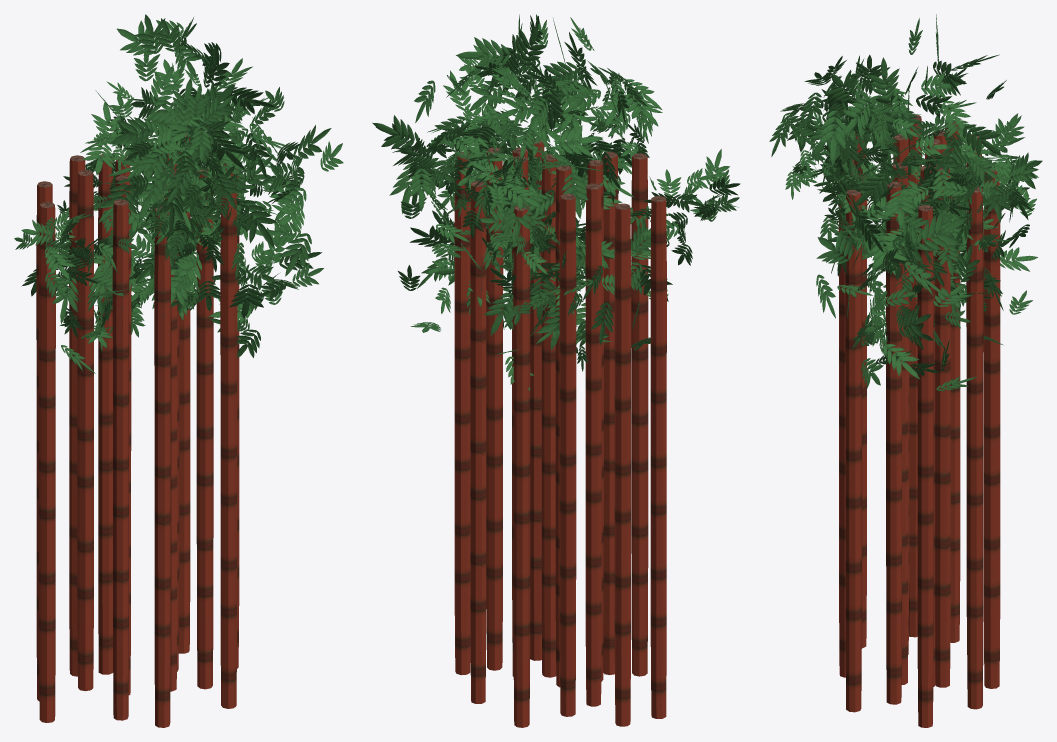
File: Bambusred.fbx
The picture shows the model from 3 angles, left to right: view 1: azimuth 30°, elevation 25°; view 2: azimuth 150°, elevation 25°; view 3: azimuth 270°, elevation 25°; orthographic projection.
Visible parts, largest first — view 1: Cube.023, Cube.023|Bambusblätter|Dupli|5.0.0.0.0.0.0.0.0.0, Cube.023|Bambusblätter|Dupli|0.0.0.0.0.0.0.0.0.0, Cube.023|Bambusblätter|Dupli|10.0.0.0.0.0.0.0.0.0, Cube.023|Bambusblätter|Dupli|17.0.0.0.0.0.0.0.0.0, Cube.023|Bambusblätter|Dupli|9.0.0.0.0.0.0.0.0.0, Cube.023|Bambusblätter|Dupli|2.0.0.0.0.0.0.0.0.0, Cube.023|Bambusblätter|Dupli|21.0.0.0.0.0.0.0.0.0, Cube.023|Bambusblätter|Dupli|7.0.0.0.0.0.0.0.0.0, Cube.023|Bambusblätter|Dupli|14.0.0.0.0.0.0.0.0.0, Cube.023|Bambusblätter|Dupli|4.0.0.0.0.0.0.0.0.0, Cube.023|Bambusblätter|Dupli|1.0.0.0.0.0.0.0.0.0 (+8 smaller); view 2: Cube.023, Cube.023|Bambusblätter|Dupli|17.0.0.0.0.0.0.0.0.0, Cube.023|Bambusblätter|Dupli|4.0.0.0.0.0.0.0.0.0, Cube.023|Bambusblätter|Dupli|14.0.0.0.0.0.0.0.0.0, Cube.023|Bambusblätter|Dupli|7.0.0.0.0.0.0.0.0.0, Cube.023|Bambusblätter|Dupli|5.0.0.0.0.0.0.0.0.0, Cube.023|Bambusblätter|Dupli|0.0.0.0.0.0.0.0.0.0, Cube.023|Bambusblätter|Dupli|19.0.0.0.0.0.0.0.0.0, Cube.023|Bambusblätter|Dupli|16.0.0.0.0.0.0.0.0.0, Cube.023|Bambusblätter|Dupli|9.0.0.0.0.0.0.0.0.0, Cube.023|Bambusblätter|Dupli|20.0.0.0.0.0.0.0.0.0, Cube.023|Bambusblätter|Dupli|10.0.0.0.0.0.0.0.0.0 (+7 smaller); view 3: Cube.023, Cube.023|Bambusblätter|Dupli|10.0.0.0.0.0.0.0.0.0, Cube.023|Bambusblätter|Dupli|17.0.0.0.0.0.0.0.0.0, Cube.023|Bambusblätter|Dupli|21.0.0.0.0.0.0.0.0.0, Cube.023|Bambusblätter|Dupli|19.0.0.0.0.0.0.0.0.0, Cube.023|Bambusblätter|Dupli|9.0.0.0.0.0.0.0.0.0, Cube.023|Bambusblätter|Dupli|5.0.0.0.0.0.0.0.0.0, Cube.023|Bambusblätter|Dupli|16.0.0.0.0.0.0.0.0.0, Cube.023|Bambusblätter|Dupli|0.0.0.0.0.0.0.0.0.0, Cube.023|Bambusblätter|Dupli|20.0.0.0.0.0.0.0.0.0, Cube.023|Bambusblätter|Dupli|2.0.0.0.0.0.0.0.0.0, Cube.023|Bambusblätter|Dupli|4.0.0.0.0.0.0.0.0.0 (+7 smaller).
Part boxes in pixels (<box>): Cube.023: <box>36,135,239,727</box>; Cube.023|Bambusblätter|Dupli|5.0.0.0.0.0.0.0.0.0: <box>97,82,247,232</box>; Cube.023|Bambusblätter|Dupli|0.0.0.0.0.0.0.0.0.0: <box>134,78,241,251</box>; Cube.023|Bambusblätter|Dupli|10.0.0.0.0.0.0.0.0.0: <box>199,117,343,276</box>; Cube.023|Bambusblätter|Dupli|17.0.0.0.0.0.0.0.0.0: <box>117,14,259,166</box>; Cube.023|Bambusblätter|Dupli|9.0.0.0.0.0.0.0.0.0: <box>156,43,301,207</box>; Cube.023|Bambusblätter|Dupli|2.0.0.0.0.0.0.0.0.0: <box>130,154,283,318</box>; Cube.023|Bambusblätter|Dupli|21.0.0.0.0.0.0.0.0.0: <box>179,220,323,357</box>; Cube.023|Bambusblätter|Dupli|7.0.0.0.0.0.0.0.0.0: <box>14,208,137,299</box>; Cube.023|Bambusblätter|Dupli|14.0.0.0.0.0.0.0.0.0: <box>21,236,145,373</box>; Cube.023|Bambusblätter|Dupli|4.0.0.0.0.0.0.0.0.0: <box>82,95,201,248</box>; Cube.023|Bambusblätter|Dupli|1.0.0.0.0.0.0.0.0.0: <box>147,164,219,268</box>; Cube.023: <box>454,140,666,727</box>; Cube.023|Bambusblätter|Dupli|17.0.0.0.0.0.0.0.0.0: <box>414,15,565,167</box>; Cube.023|Bambusblätter|Dupli|4.0.0.0.0.0.0.0.0.0: <box>482,125,622,251</box>; Cube.023|Bambusblätter|Dupli|14.0.0.0.0.0.0.0.0.0: <box>535,218,672,350</box>; Cube.023|Bambusblätter|Dupli|7.0.0.0.0.0.0.0.0.0: <box>630,149,740,265</box>; Cube.023|Bambusblätter|Dupli|5.0.0.0.0.0.0.0.0.0: <box>502,17,662,203</box>; Cube.023|Bambusblätter|Dupli|0.0.0.0.0.0.0.0.0.0: <box>522,26,662,177</box>; Cube.023|Bambusblätter|Dupli|19.0.0.0.0.0.0.0.0.0: <box>392,123,503,243</box>; Cube.023|Bambusblätter|Dupli|16.0.0.0.0.0.0.0.0.0: <box>427,64,563,214</box>; Cube.023|Bambusblätter|Dupli|9.0.0.0.0.0.0.0.0.0: <box>458,14,591,180</box>; Cube.023|Bambusblätter|Dupli|20.0.0.0.0.0.0.0.0.0: <box>419,148,541,270</box>; Cube.023|Bambusblätter|Dupli|10.0.0.0.0.0.0.0.0.0: <box>372,114,541,258</box>; Cube.023: <box>838,114,1000,727</box>; Cube.023|Bambusblätter|Dupli|10.0.0.0.0.0.0.0.0.0: <box>816,195,980,320</box>; Cube.023|Bambusblätter|Dupli|17.0.0.0.0.0.0.0.0.0: <box>865,14,1006,202</box>; Cube.023|Bambusblätter|Dupli|21.0.0.0.0.0.0.0.0.0: <box>851,281,977,391</box>; Cube.023|Bambusblätter|Dupli|19.0.0.0.0.0.0.0.0.0: <box>916,150,1042,241</box>; Cube.023|Bambusblätter|Dupli|9.0.0.0.0.0.0.0.0.0: <box>807,54,928,213</box>; Cube.023|Bambusblätter|Dupli|5.0.0.0.0.0.0.0.0.0: <box>787,67,929,212</box>; Cube.023|Bambusblätter|Dupli|16.0.0.0.0.0.0.0.0.0: <box>853,134,963,257</box>; Cube.023|Bambusblätter|Dupli|0.0.0.0.0.0.0.0.0.0: <box>769,55,909,201</box>; Cube.023|Bambusblätter|Dupli|20.0.0.0.0.0.0.0.0.0: <box>933,113,1038,252</box>; Cube.023|Bambusblätter|Dupli|2.0.0.0.0.0.0.0.0.0: <box>816,173,922,318</box>; Cube.023|Bambusblätter|Dupli|4.0.0.0.0.0.0.0.0.0: <box>861,115,1024,229</box>.
Size of the model in its own units: 366 by 682 by 250.
